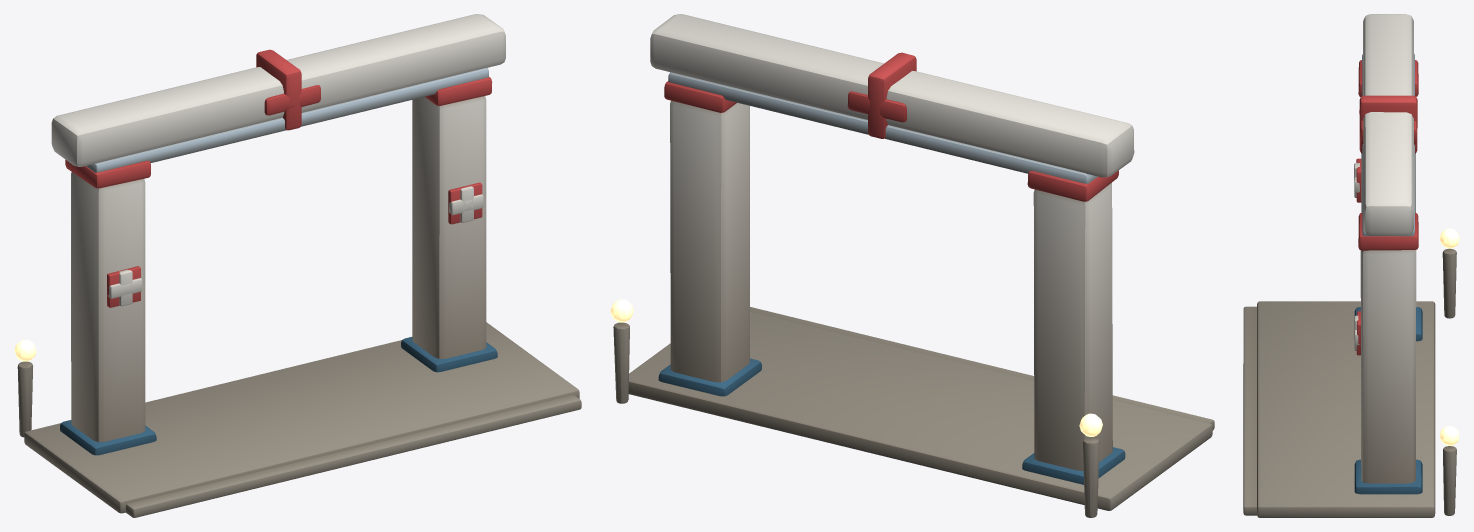
3 views of the same model, side by side, from view 1: azimuth 30°, elevation 25°; view 2: azimuth 150°, elevation 25°; view 3: azimuth 270°, elevation 25° (orthographic). The views are drawn at different scales.
Visible parts, largest first — view 1: gate_04514e2a; view 2: gate_04514e2a; view 3: gate_04514e2a.
Part boxes in pixels (x1,y1,x2,y2): gate_04514e2a: (14, 14, 581, 517); gate_04514e2a: (610, 14, 1214, 517); gate_04514e2a: (1243, 14, 1459, 517).
Bounding box in the file's own units: 5.76 × 4.14 × 2.55.
